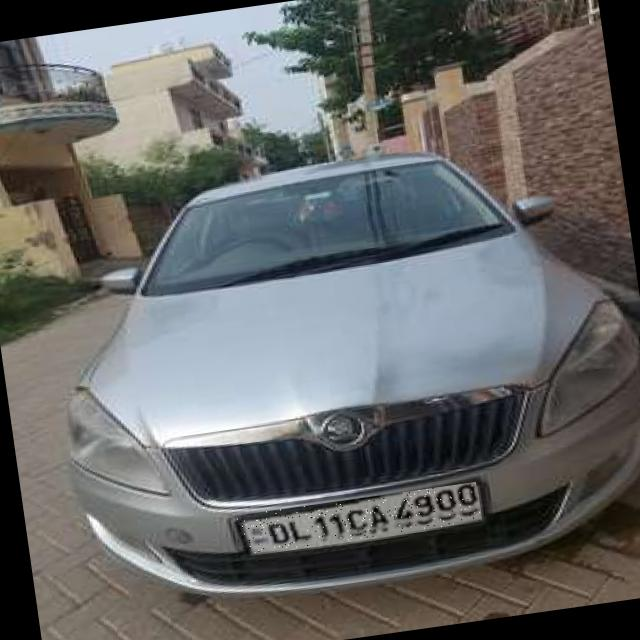Plate: (236, 483, 483, 557)
